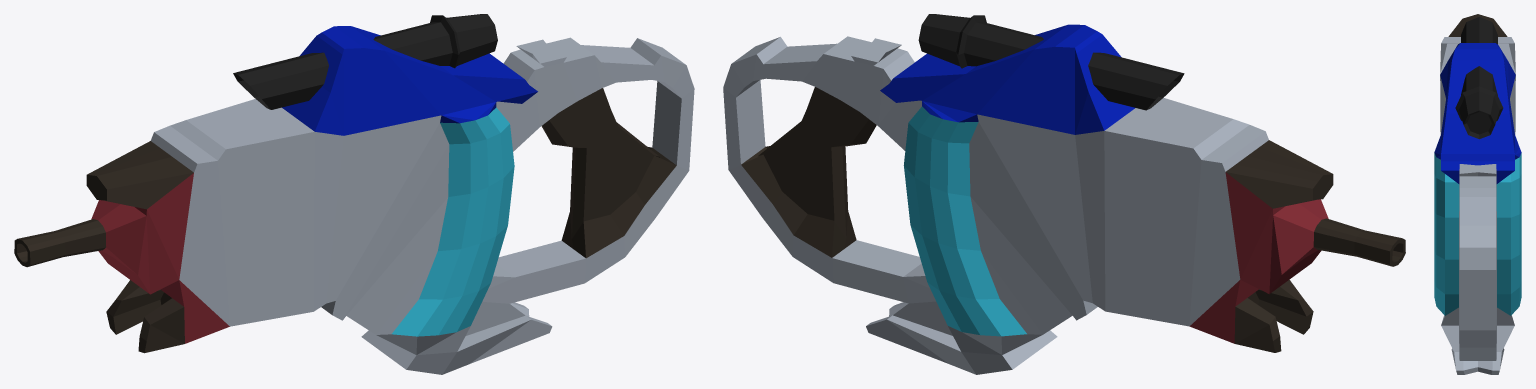
Rendered from weapon.fbx.
3 views of the same model, side by side, from view 1: azimuth 30°, elevation 25°; view 2: azimuth 150°, elevation 25°; view 3: azimuth 270°, elevation 25° (orthographic). The views are drawn at different scales.
Parts seen in each view (by area): view 1: Weapon; view 2: Weapon; view 3: Weapon.
Boxes of the visible parts, x1,y1,x2,y2 form: Weapon: (14, 14, 694, 374); Weapon: (723, 14, 1405, 374); Weapon: (1434, 14, 1521, 374).
Bounding box in the file's own units: 794 × 398 × 118.
